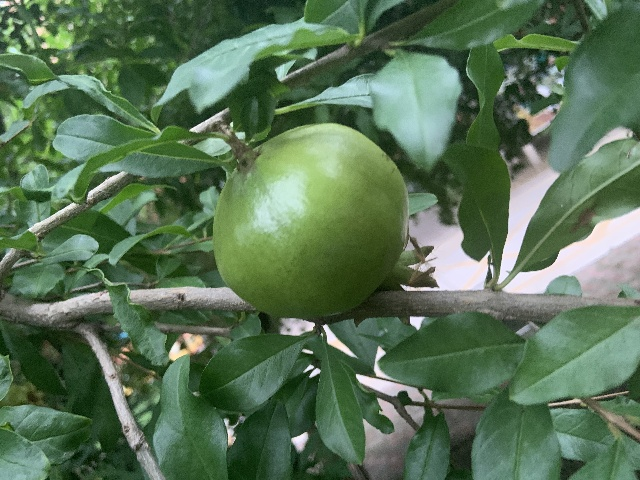mid-growth: (212, 122, 435, 327)
